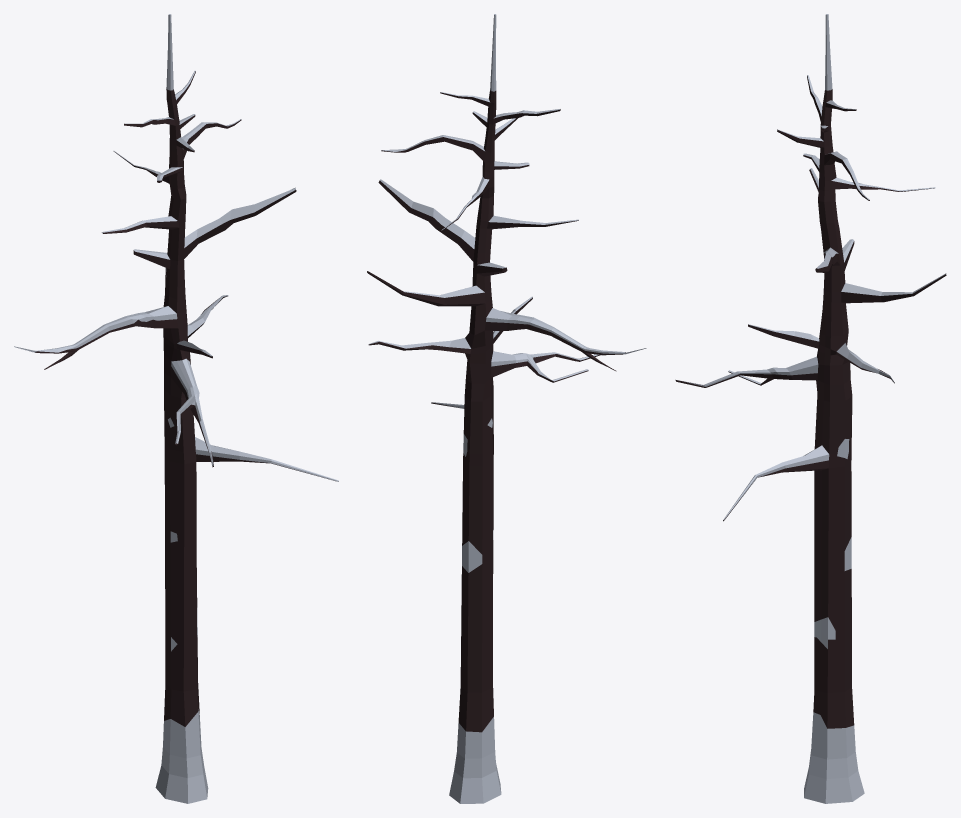
File: dead_tree1.fbx
The picture shows the model from 3 angles, left to right: view 1: azimuth 30°, elevation 25°; view 2: azimuth 150°, elevation 25°; view 3: azimuth 270°, elevation 25°; orthographic projection.
Visible parts, largest first — view 1: mytree1; view 2: mytree1; view 3: mytree1.
Boxes of the visible parts, x1=… form: mytree1: x1=14, y1=14, x2=338, y2=803; mytree1: x1=367, y1=14, x2=646, y2=803; mytree1: x1=675, y1=14, x2=946, y2=803.
Size of the model in its own units: 1467 by 3981 by 1270.
